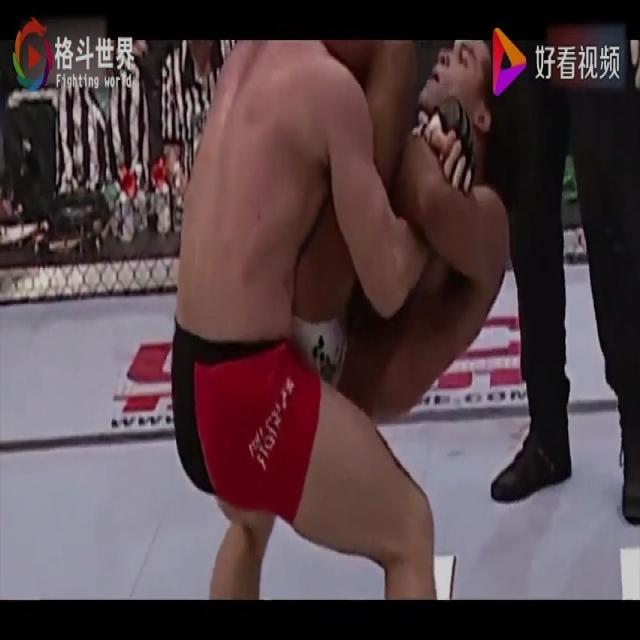fight: (150, 32, 534, 600)
